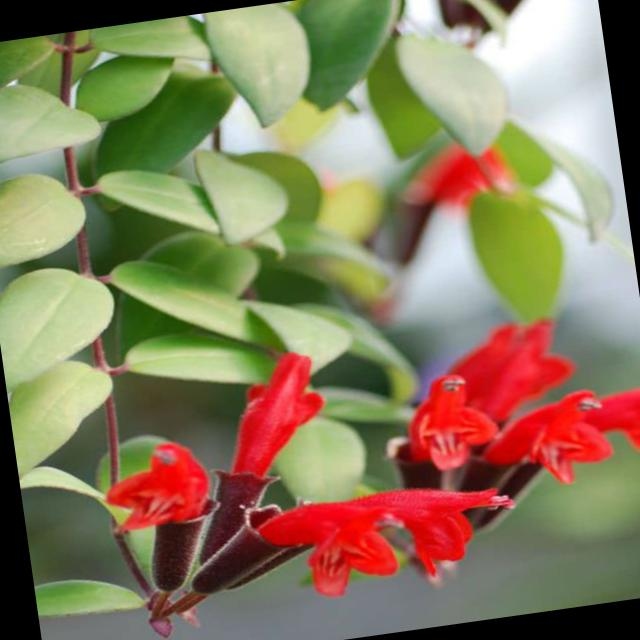Lipstick-Plant: (110, 310, 480, 634), (348, 299, 622, 583)
